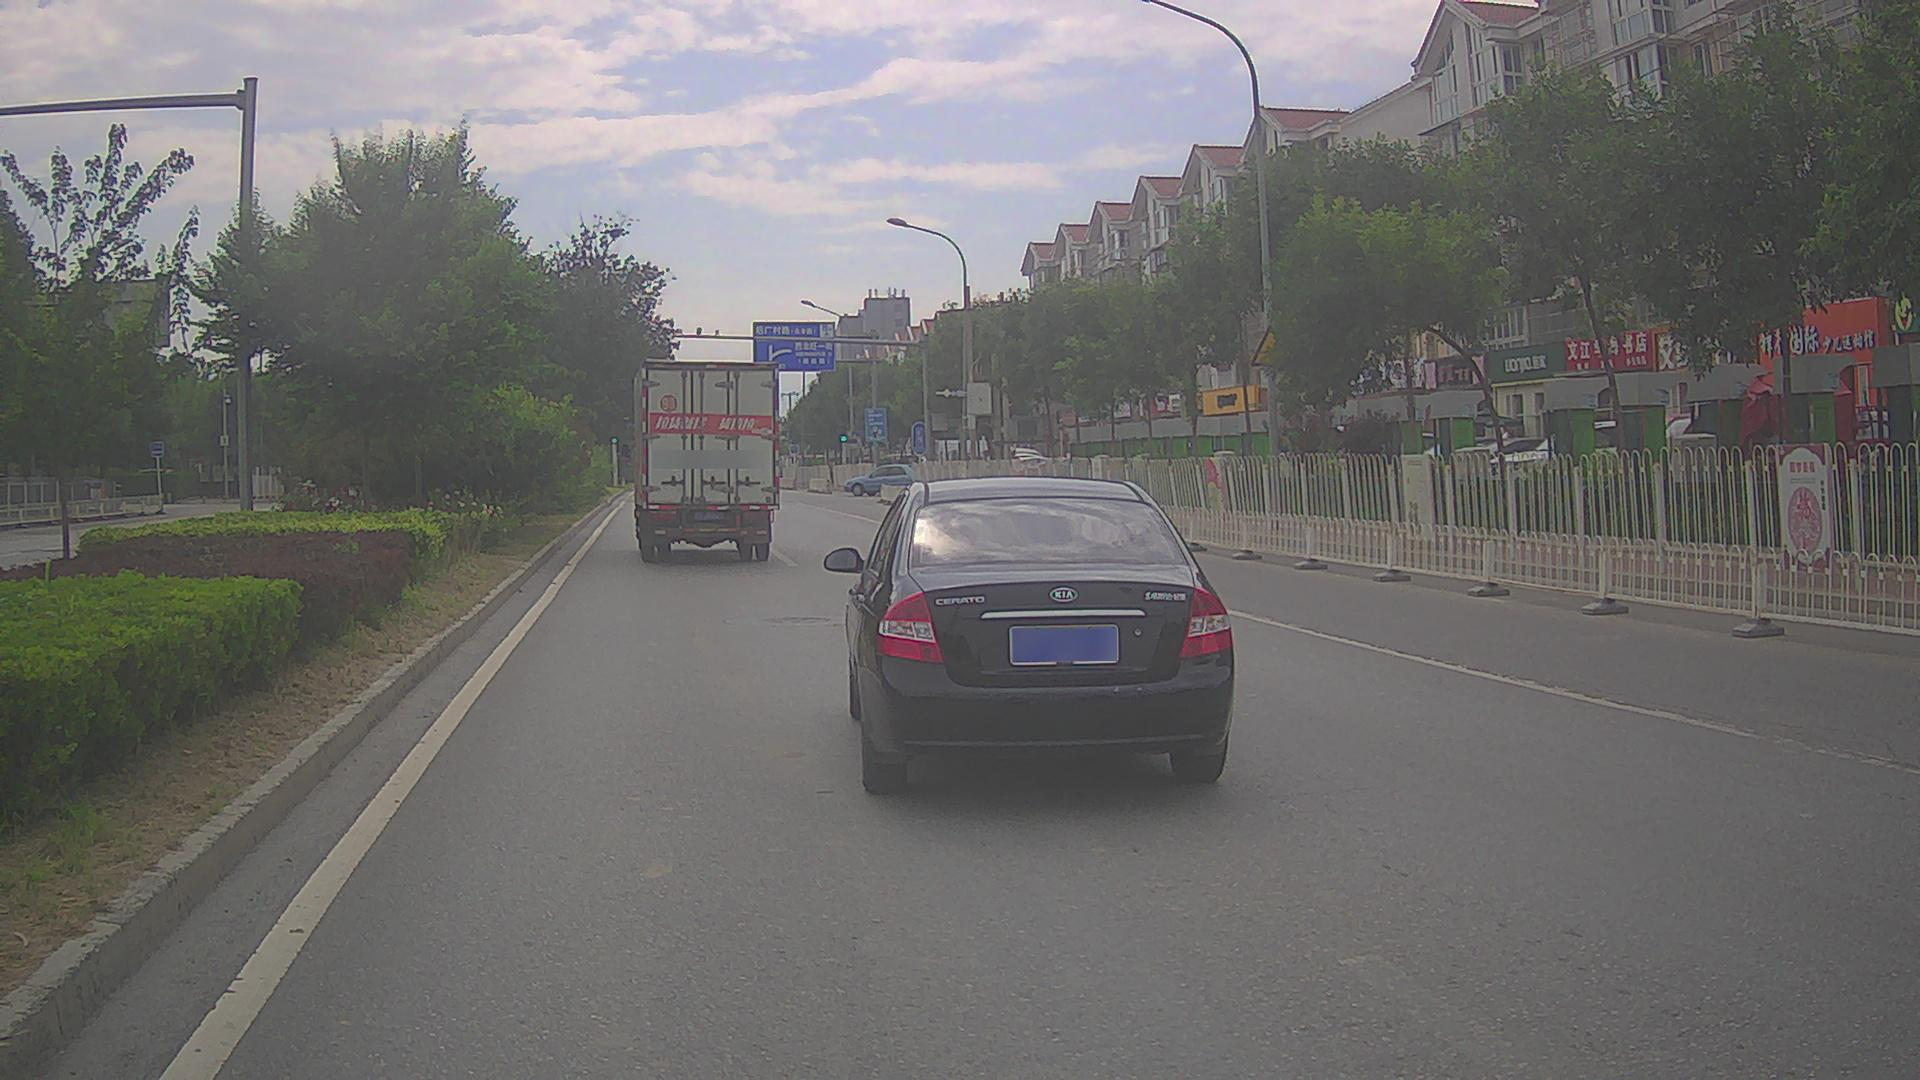car: (822, 475, 1236, 796), (843, 463, 927, 497)
ignore: (1419, 414, 1691, 480), (1009, 446, 1051, 460)
truck: (620, 357, 781, 564)
